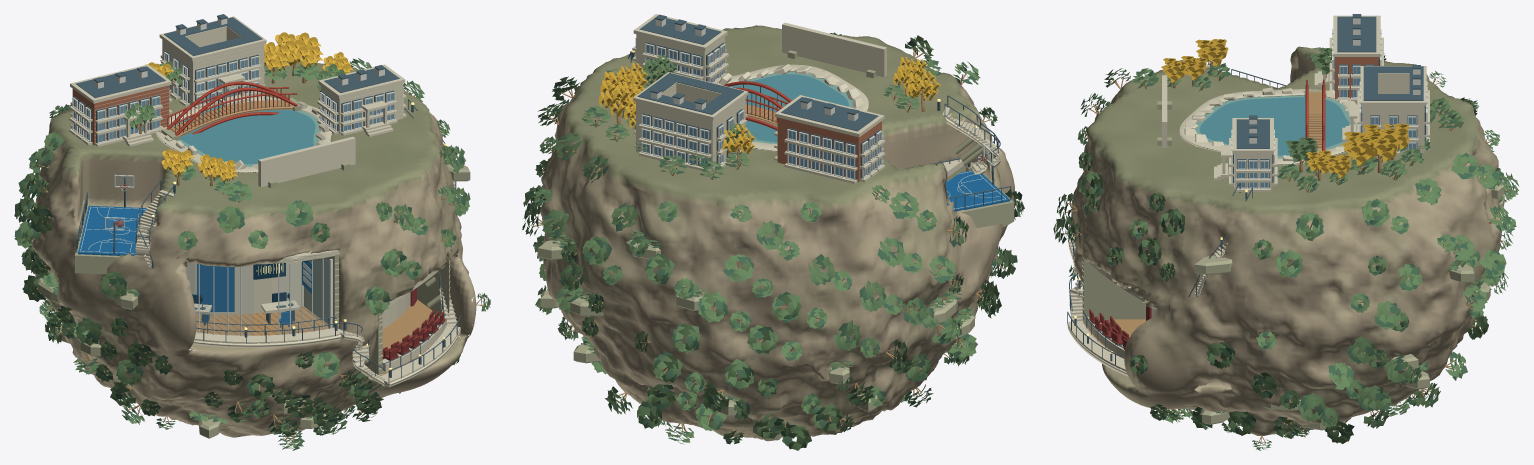
Rendered from university-refined-v2-low.glb.
3 views of the same model, side by side, from view 1: azimuth 30°, elevation 25°; view 2: azimuth 150°, elevation 25°; view 3: azimuth 270°, elevation 25° (orthographic). The views are drawn at different scales.
Visible parts, largest first — view 1: campus_stratified_terrain, campus_pale_stone, campus_foliage, campus_metal, campus_groundcover, campus_window_frame, campus_limestone, campus_wood, campus_lake, campus_blue, campus_ginkgo_gold, campus_glass (+5 smaller); view 2: campus_stratified_terrain, campus_foliage, campus_pale_stone, campus_groundcover, campus_metal, campus_window_frame, campus_limestone, campus_ginkgo_gold, campus_glass, campus_lake, campus_wood, campus_blue (+2 smaller); view 3: campus_stratified_terrain, campus_foliage, campus_pale_stone, campus_groundcover, campus_metal, campus_limestone, campus_ginkgo_gold, campus_lake, campus_wood, campus_window_frame, campus_glass, campus_velvet (+3 smaller).
Part boxes in pixels (bbox=[...]): campus_stratified_terrain: bbox=[31, 61, 476, 437]; campus_pale_stone: bbox=[69, 16, 460, 387]; campus_foliage: bbox=[14, 58, 490, 449]; campus_metal: bbox=[73, 14, 460, 382]; campus_groundcover: bbox=[14, 58, 489, 450]; campus_window_frame: bbox=[72, 17, 403, 336]; campus_limestone: bbox=[37, 97, 470, 438]; campus_wood: bbox=[28, 42, 483, 441]; campus_lake: bbox=[180, 105, 315, 164]; campus_blue: bbox=[78, 205, 313, 325]; campus_ginkgo_gold: bbox=[145, 32, 353, 182]; campus_glass: bbox=[73, 54, 393, 142]; campus_stratified_terrain: bbox=[540, 25, 1014, 441]; campus_foliage: bbox=[522, 32, 1024, 450]; campus_pale_stone: bbox=[632, 14, 1002, 183]; campus_groundcover: bbox=[522, 39, 1022, 447]; campus_metal: bbox=[628, 14, 1011, 210]; campus_window_frame: bbox=[635, 18, 1005, 209]; campus_limestone: bbox=[537, 50, 1014, 440]; campus_ginkgo_gold: bbox=[598, 57, 940, 153]; campus_glass: bbox=[642, 45, 880, 178]; campus_lake: bbox=[729, 74, 848, 142]; campus_wood: bbox=[531, 47, 1011, 436]; campus_blue: bbox=[945, 170, 1010, 211]; campus_stratified_terrain: bbox=[1069, 46, 1502, 435]; campus_foliage: bbox=[1053, 47, 1518, 450]; campus_pale_stone: bbox=[1067, 15, 1429, 376]; campus_groundcover: bbox=[1056, 53, 1519, 449]; campus_metal: bbox=[1067, 14, 1425, 366]; campus_limestone: bbox=[1077, 89, 1504, 430]; campus_ginkgo_gold: bbox=[1161, 39, 1409, 177]; campus_lake: bbox=[1199, 97, 1349, 155]; campus_wood: bbox=[1064, 60, 1510, 443]; campus_window_frame: bbox=[1209, 18, 1427, 188]; campus_glass: bbox=[1238, 57, 1415, 187]; campus_velvet: bbox=[1089, 303, 1151, 349].
Bounding box in the file's own units: 20.26 × 16.7 × 20.25.
